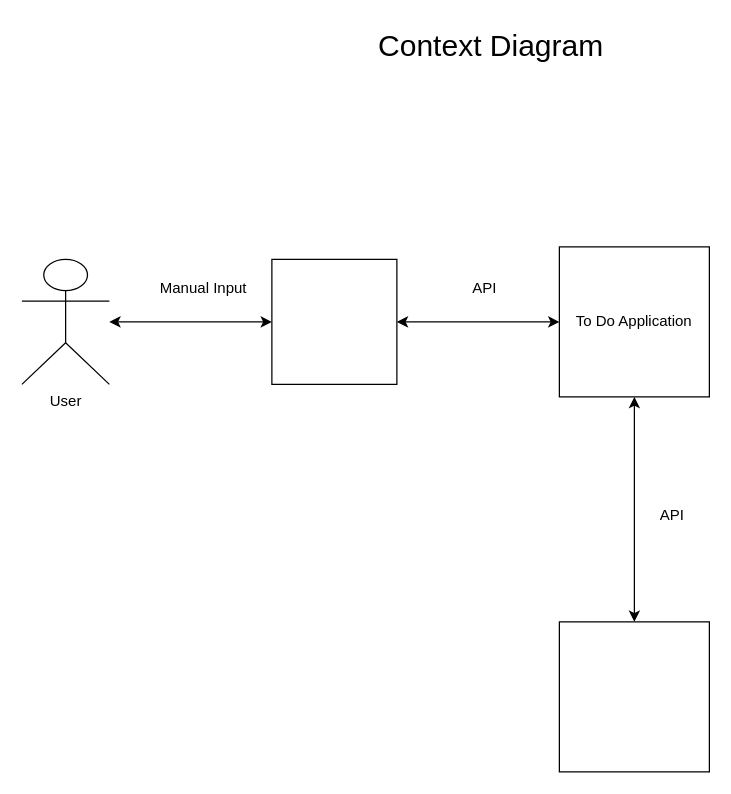
The diagram is 731 pixels wide and 794 high, and some of its shapes have lost their labels. Each missing label, with the centre of its shape:
Trello: pixel 633 696
Web Browser: pixel 334 321
